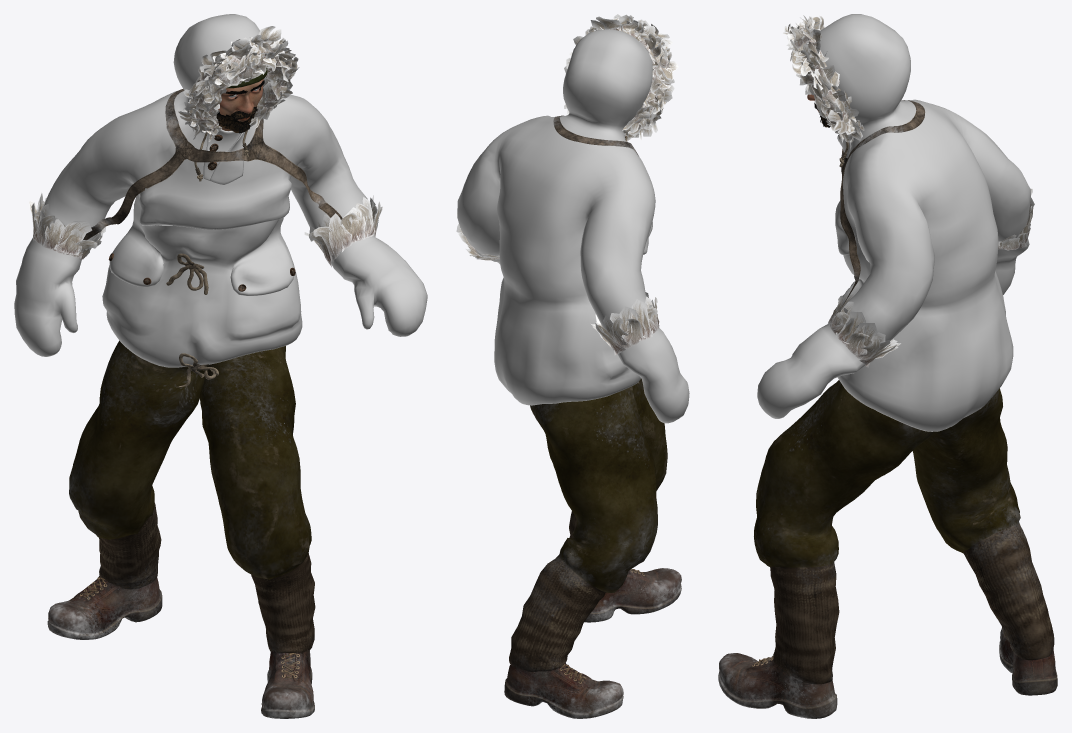
The model's file is explorer.obj.
3 views of the same model, side by side, from view 1: azimuth 30°, elevation 25°; view 2: azimuth 150°, elevation 25°; view 3: azimuth 270°, elevation 25° (orthographic). The views are drawn at different scales.
Visible parts, largest first — view 1: JacketGlovesEyes_JacketGloves_0, Ties_TrousersHatBoots_0, Fur_Collar_NewFur_0, Glove_Harness_Face_0, Facial_Hair_Facial_Hair_Cards_0; view 2: JacketGlovesEyes_JacketGloves_0, Ties_TrousersHatBoots_0, Fur_Collar_NewFur_0, Glove_Harness_Face_0; view 3: JacketGlovesEyes_JacketGloves_0, Ties_TrousersHatBoots_0, Fur_Collar_NewFur_0, Glove_Harness_Face_0.
Part boxes in pixels (x1,y1,x2,y2): JacketGlovesEyes_JacketGloves_0: (14,14,427,367); Ties_TrousersHatBoots_0: (47,67,315,718); Fur_Collar_NewFur_0: (29,26,382,267); Glove_Harness_Face_0: (83,64,342,240); Facial_Hair_Facial_Hair_Cards_0: (214,80,264,133); JacketGlovesEyes_JacketGloves_0: (457,29,689,423); Ties_TrousersHatBoots_0: (504,133,681,718); Fur_Collar_NewFur_0: (456,14,678,355); Glove_Harness_Face_0: (553,68,663,155); JacketGlovesEyes_JacketGloves_0: (757,14,1030,431); Ties_TrousersHatBoots_0: (718,142,1057,718); Fur_Collar_NewFur_0: (783,15,1034,367); Glove_Harness_Face_0: (807,87,925,306).
Bounding box in the file's own units: 1.78 × 3.61 × 1.65.
